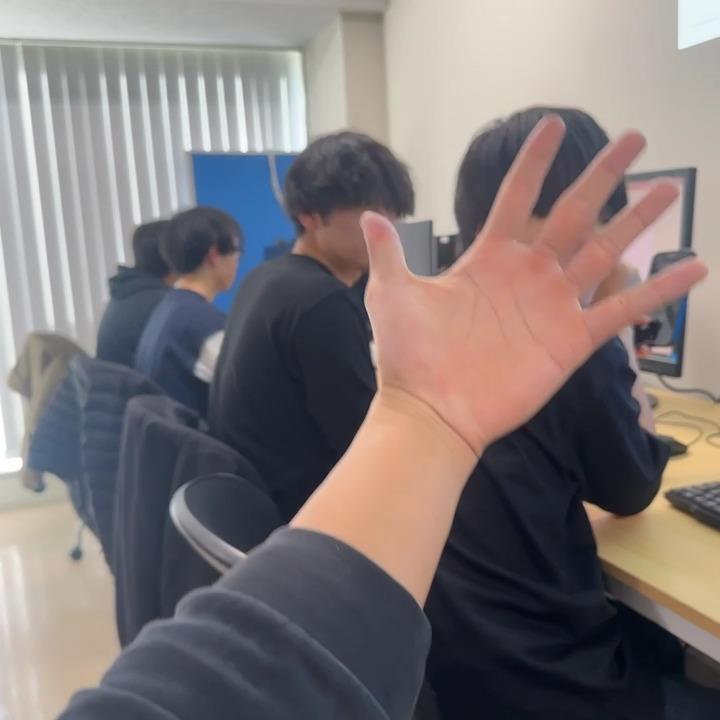without_gloves: (280, 64, 693, 495)
